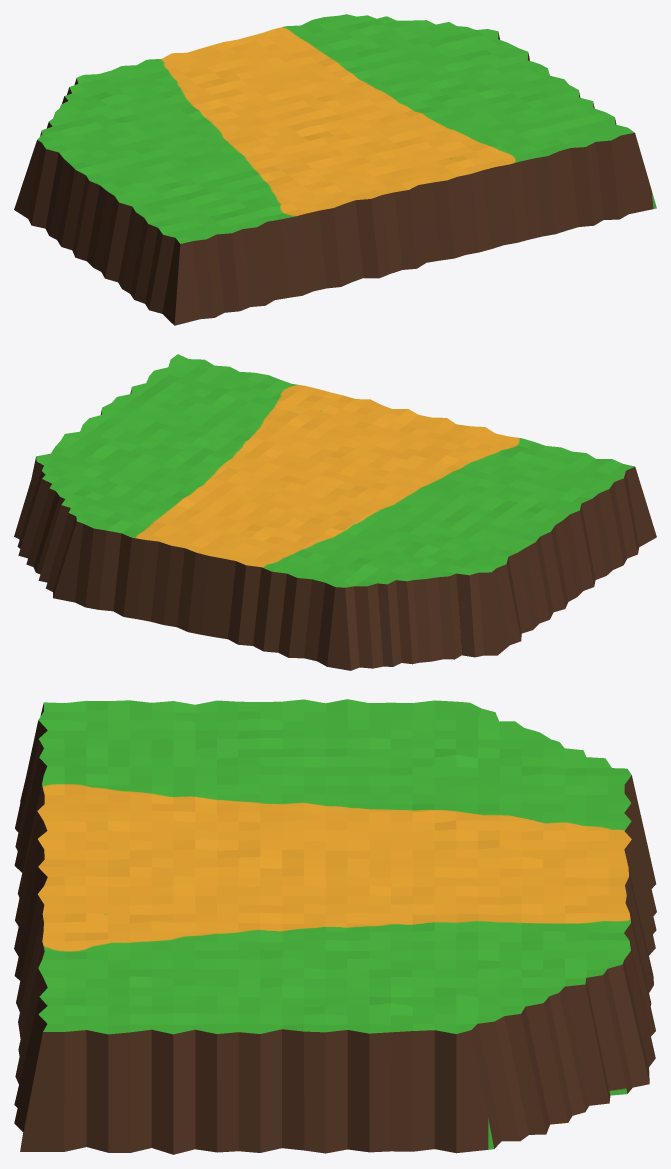
The model's file is SectionThree2.FBX.
3 views of the same model, one above another, from view 1: azimuth 30°, elevation 25°; view 2: azimuth 150°, elevation 25°; view 3: azimuth 270°, elevation 25° (orthographic). The views are drawn at different scales.
Parts seen in each view (by area): view 1: SectionThreePointFive; view 2: SectionThreePointFive; view 3: SectionThreePointFive.
Part boxes in pixels (box(x1,y1,x2,y2)): SectionThreePointFive: box(14, 14, 656, 325); SectionThreePointFive: box(14, 354, 656, 670); SectionThreePointFive: box(14, 699, 656, 1154).
Bounding box in the file's own units: 2680 × 395 × 2045.
Materials: 1 (1 with a texture image).
